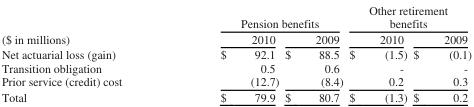table: (0, 1, 471, 104)
table column: (0, 1, 170, 104), (170, 1, 281, 104), (281, 1, 345, 104), (345, 1, 409, 104), (409, 1, 471, 104)
table column header: (0, 1, 471, 45)
table row: (0, 1, 471, 30), (0, 88, 471, 104), (0, 30, 471, 45), (0, 45, 471, 60), (0, 60, 471, 74), (0, 74, 471, 88)
table spanning cell: (0, 1, 170, 45), (170, 1, 345, 30), (345, 1, 471, 30)
